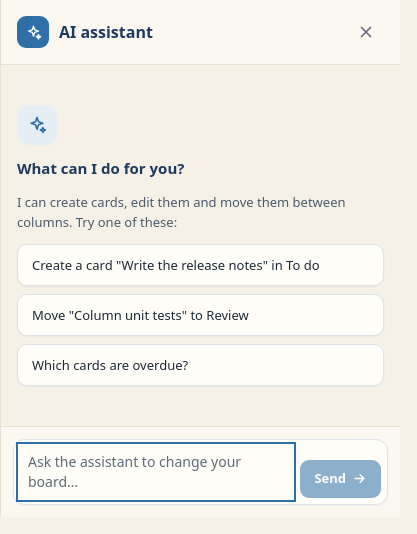
asking › uses dir=auto for the questions, the answers and the input, so Persian and English both read correctly
Type "یک کارت بساز" into the text box labelled "Ask the assistant to change your board…" at (156,472), box [20, 446, 292, 498]
Then press Enter
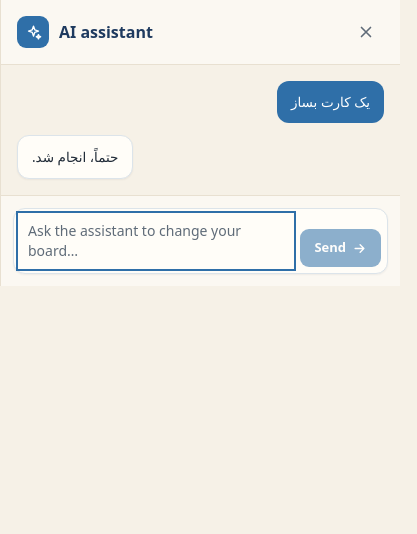
Now the element with test id "ai-answer" reads "حتماً، انجام شد.", box [32, 148, 118, 166]
